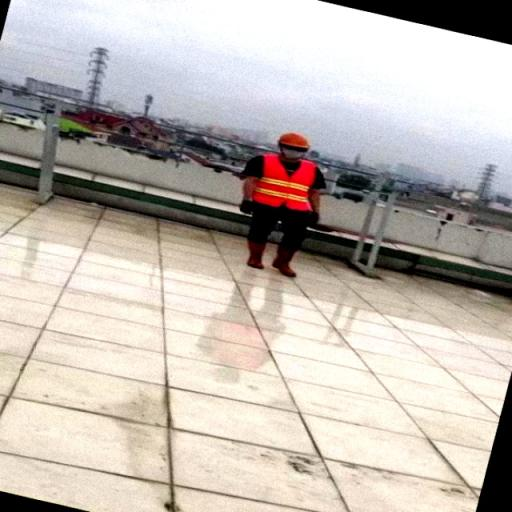Person: (234, 117, 331, 296)
boots: (240, 224, 274, 284), (270, 238, 310, 284)
gloves: (304, 200, 332, 230), (231, 190, 264, 215)
goggles: (275, 145, 322, 154)
helmet: (269, 130, 318, 147)
vest: (250, 146, 324, 218)
